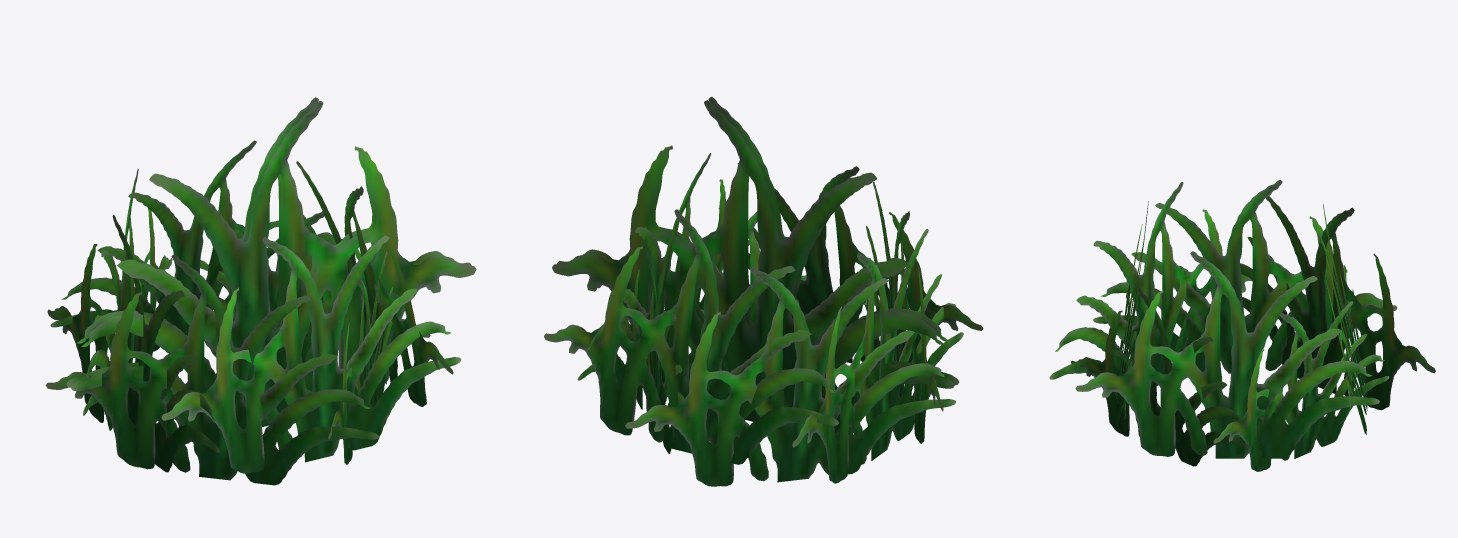
Rendered from Battle01_Cao_04.FBX.
The picture shows the model from 3 angles, left to right: view 1: azimuth 30°, elevation 25°; view 2: azimuth 150°, elevation 25°; view 3: azimuth 270°, elevation 25°; orthographic projection. The views are drawn at different scales.
Visible parts, largest first — view 1: C01_Cao_04; view 2: C01_Cao_04; view 3: C01_Cao_04.
Boxes of the visible parts, <box> form: C01_Cao_04: <box>45,97,476,485</box>; C01_Cao_04: <box>544,97,983,486</box>; C01_Cao_04: <box>1049,180,1435,471</box>.
Bounding box in the file's own units: 0.6821 × 0.5024 × 0.605.
